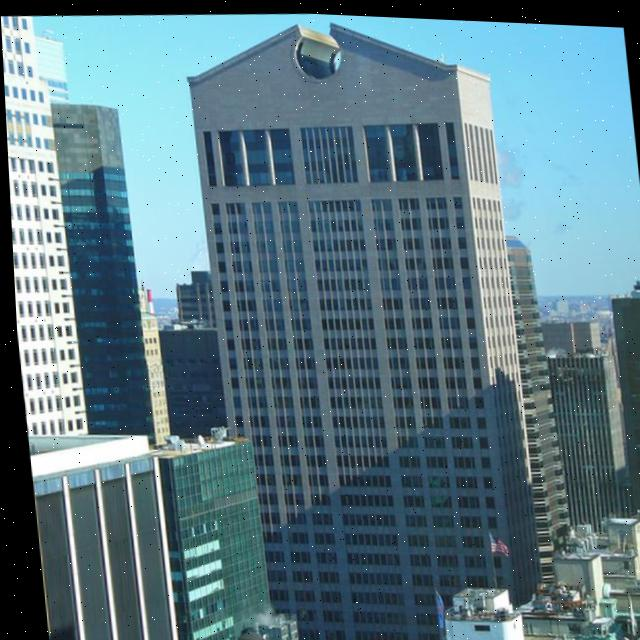building: (179, 8, 546, 625), (49, 95, 158, 451), (1, 14, 90, 440), (149, 426, 276, 640), (538, 312, 635, 532), (607, 285, 640, 600)
